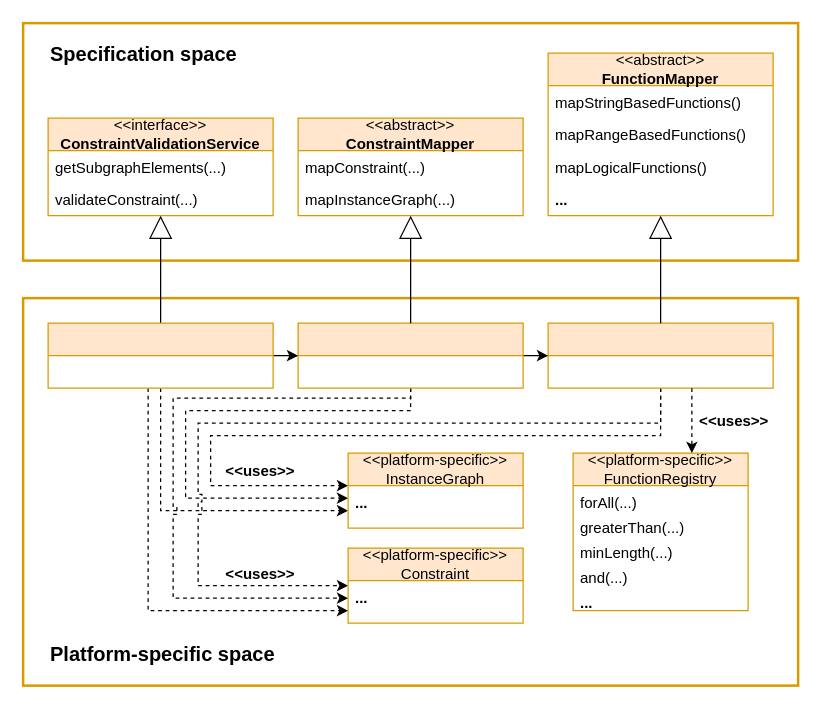
The diagram is 820 pixels wide and 708 high, and some of its shapes have lost their labels. Each missing label, with the centre of its shape:
<<platform-specific>> ConstraintMapper: point (410, 355)
<<platform-specific>> ConstraintValidationService: point (160, 355)
<<platform-specific>> FunctionMapper: point (660, 355)
